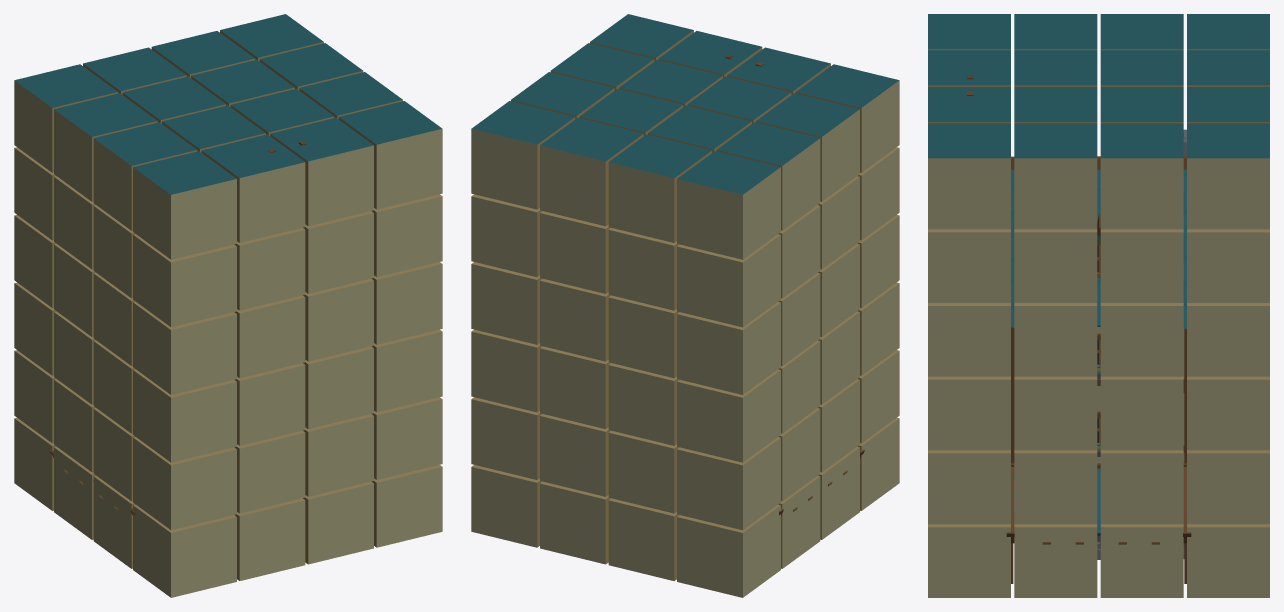
Rendered from Mill_destructible.gltf.
3 renders of one model, left to right at view 1: azimuth 30°, elevation 25°; view 2: azimuth 150°, elevation 25°; view 3: azimuth 270°, elevation 25°, orthographic. The views are drawn at different scales.
Parts seen in each view (by area): view 1: block_f5_r3_c0, block_f0_r3_c0, block_f2_r3_c0, block_f4_r3_c0, block_f1_r3_c0, block_f3_r3_c0, block_f5_r3_c1, block_f5_r3_c3, block_f5_r3_c2, block_f5_r0_c0, block_f5_r1_c0, block_f5_r2_c0 (+39 smaller); view 2: block_f5_r0_c0, block_f0_r0_c0, block_f2_r0_c0, block_f4_r0_c0, block_f1_r0_c0, block_f3_r0_c0, block_f5_r0_c1, block_f5_r0_c3, block_f5_r0_c2, block_f5_r3_c0, block_f5_r2_c0, block_f5_r1_c0 (+39 smaller); view 3: block_f5_r1_c3, block_f5_r2_c3, block_f5_r0_c3, block_f5_r3_c3, block_f1_r1_c3, block_f1_r2_c3, block_f0_r1_c3, block_f0_r2_c3, block_f1_r0_c3, block_f1_r3_c3, block_f2_r1_c3, block_f2_r2_c3 (+26 smaller).
Part boxes in pixels (bbox=[...]): block_f5_r3_c0: bbox=[133, 151, 236, 259]; block_f0_r3_c0: bbox=[131, 504, 236, 597]; block_f2_r3_c0: bbox=[133, 369, 236, 462]; block_f4_r3_c0: bbox=[133, 234, 236, 327]; block_f1_r3_c0: bbox=[133, 437, 236, 530]; block_f3_r3_c0: bbox=[133, 301, 236, 394]; block_f5_r3_c1: bbox=[201, 134, 305, 242]; block_f5_r3_c3: bbox=[338, 101, 442, 209]; block_f5_r3_c2: bbox=[270, 117, 373, 226]; block_f5_r0_c0: bbox=[14, 64, 118, 172]; block_f5_r1_c0: bbox=[54, 93, 157, 201]; block_f5_r2_c0: bbox=[93, 122, 197, 230]; block_f5_r0_c0: bbox=[677, 151, 780, 259]; block_f0_r0_c0: bbox=[677, 504, 782, 597]; block_f2_r0_c0: bbox=[677, 369, 780, 462]; block_f4_r0_c0: bbox=[677, 234, 780, 327]; block_f1_r0_c0: bbox=[677, 437, 780, 530]; block_f3_r0_c0: bbox=[677, 301, 780, 394]; block_f5_r0_c1: bbox=[608, 134, 712, 242]; block_f5_r0_c3: bbox=[471, 101, 575, 209]; block_f5_r0_c2: bbox=[540, 117, 643, 226]; block_f5_r3_c0: bbox=[795, 64, 899, 172]; block_f5_r2_c0: bbox=[756, 93, 859, 201]; block_f5_r1_c0: bbox=[716, 122, 820, 230]; block_f5_r1_c3: bbox=[1100, 123, 1183, 229]; block_f5_r2_c3: bbox=[1014, 123, 1097, 229]; block_f5_r0_c3: bbox=[1187, 123, 1269, 229]; block_f5_r3_c3: bbox=[928, 123, 1010, 229]; block_f1_r1_c3: bbox=[1099, 445, 1185, 524]; block_f1_r2_c3: bbox=[1012, 445, 1098, 524]; block_f0_r1_c3: bbox=[1099, 515, 1185, 597]; block_f0_r2_c3: bbox=[1012, 515, 1098, 597]; block_f1_r0_c3: bbox=[1185, 450, 1269, 524]; block_f1_r3_c3: bbox=[928, 450, 1012, 524]; block_f2_r1_c3: bbox=[1099, 367, 1183, 450]; block_f2_r2_c3: bbox=[1014, 367, 1098, 450].
Size of the model in its own units: 12 by 16.97 by 11.88.
